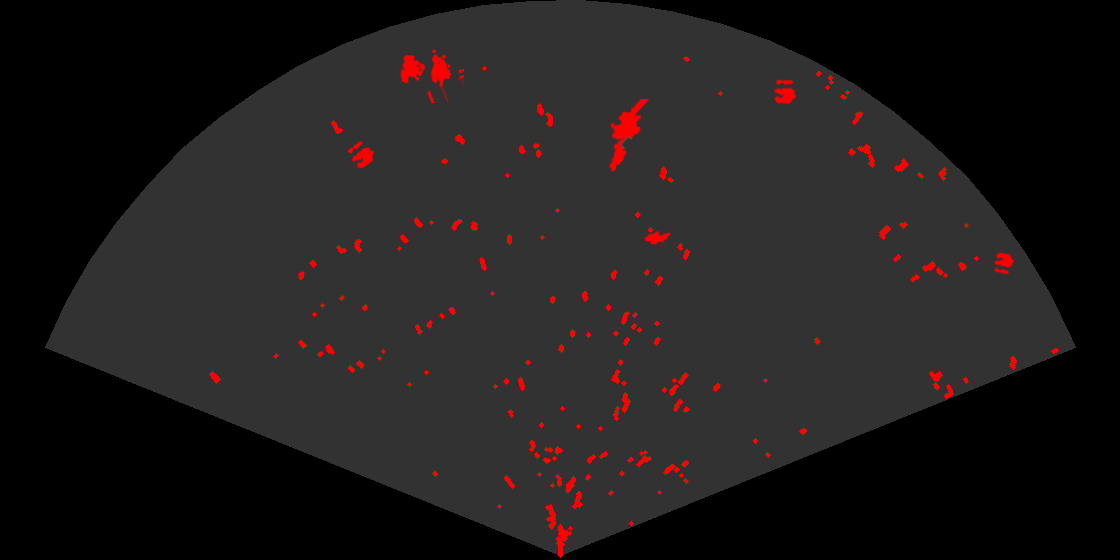AUV: (642, 229, 673, 249)
ball: (346, 140, 376, 170), (772, 78, 798, 105), (992, 251, 1016, 276)
cage: (399, 48, 464, 103)
frogman: (607, 99, 651, 173)
